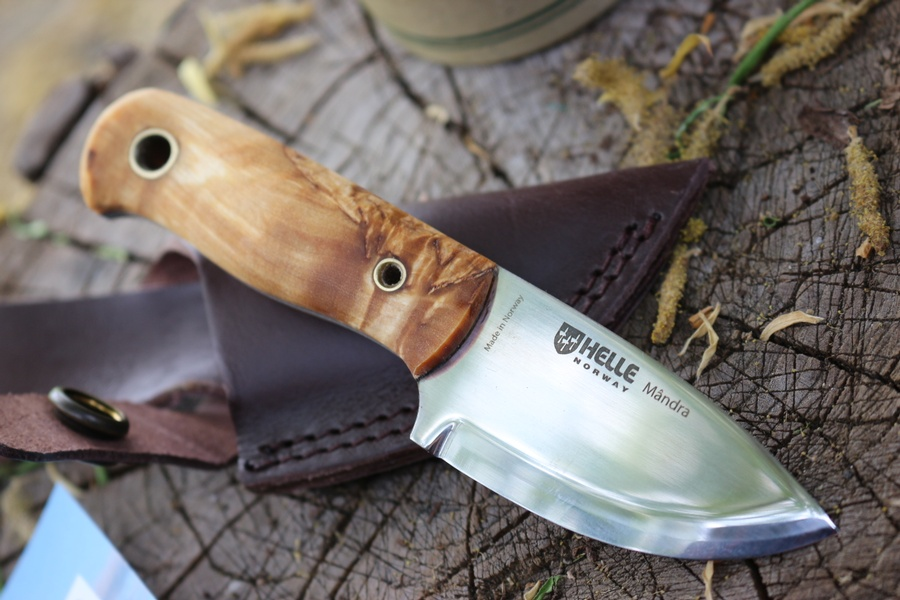knife: (392, 250, 861, 567)
